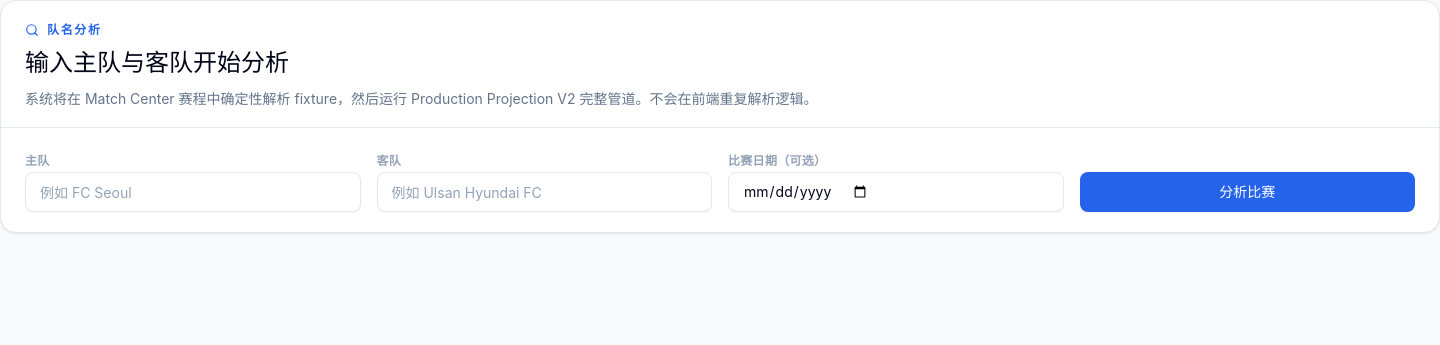
Test: AnalyzeByTeamsSection › shows fixture not found without fabricating a prediction
Step 1. Type "Rosenborg" into the field labelled "主队" → (193, 192), box [25,172,360,212]
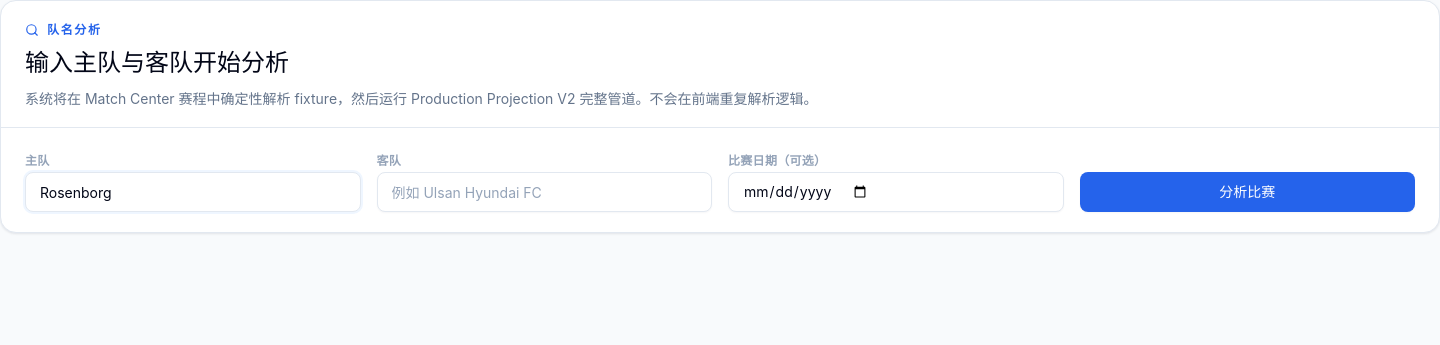
Step 2. Type "Fredrikstad" into the field labelled "客队" → (544, 192), box [376,172,712,212]
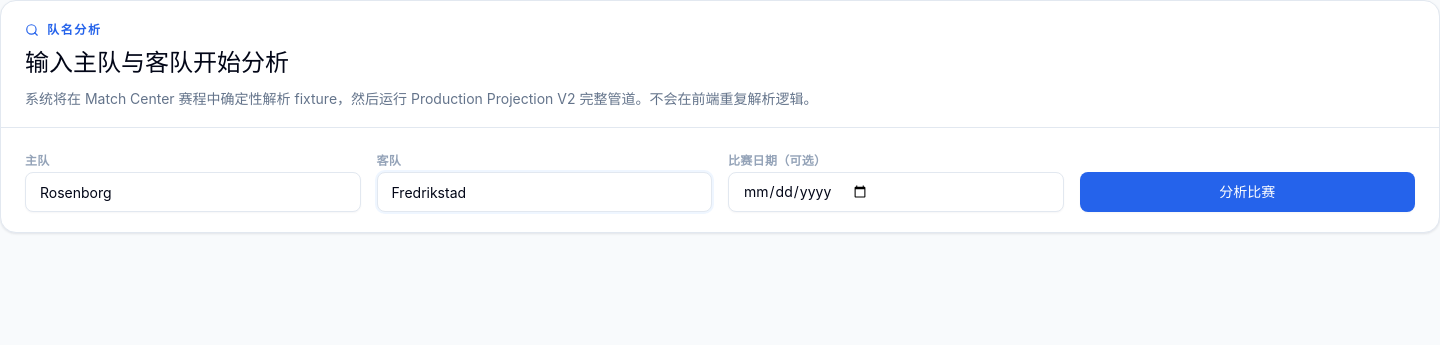
Step 3. Click the button "分析比赛" → click(1247, 192), box [1080,172,1415,212]
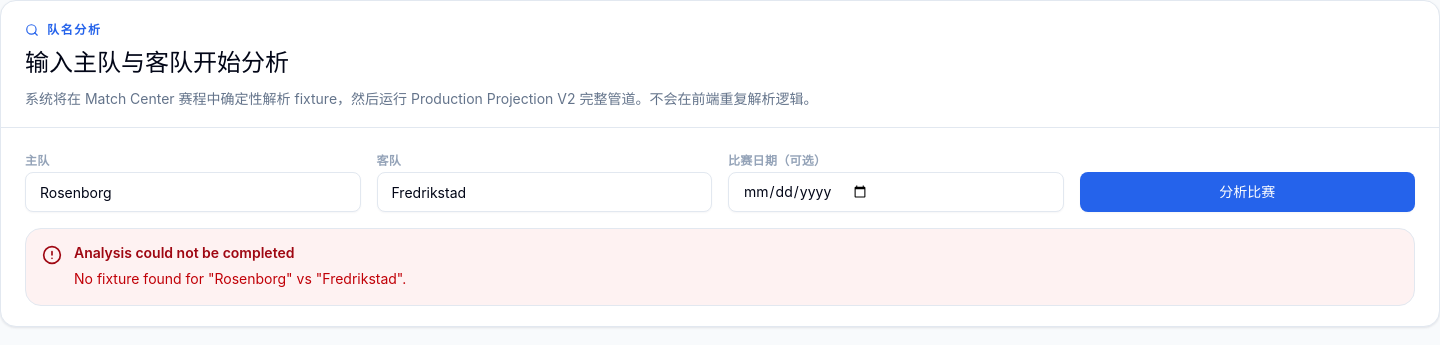
Expected: the text "No fixture found for \"Rosenborg\" vs \"Fredrikstad\"." is shown, [74,267,406,291]
